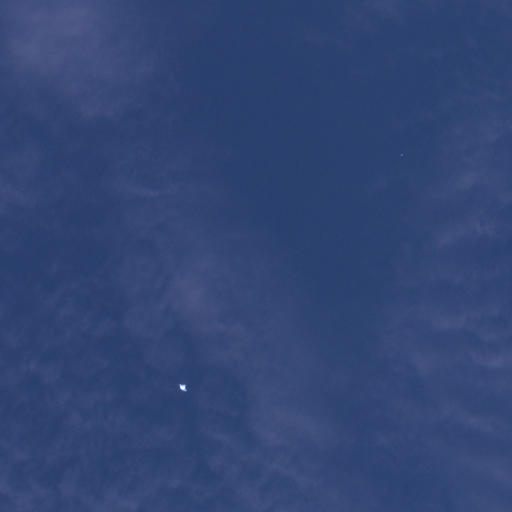Iceberg: (179, 384, 186, 391), (401, 154, 402, 155)
